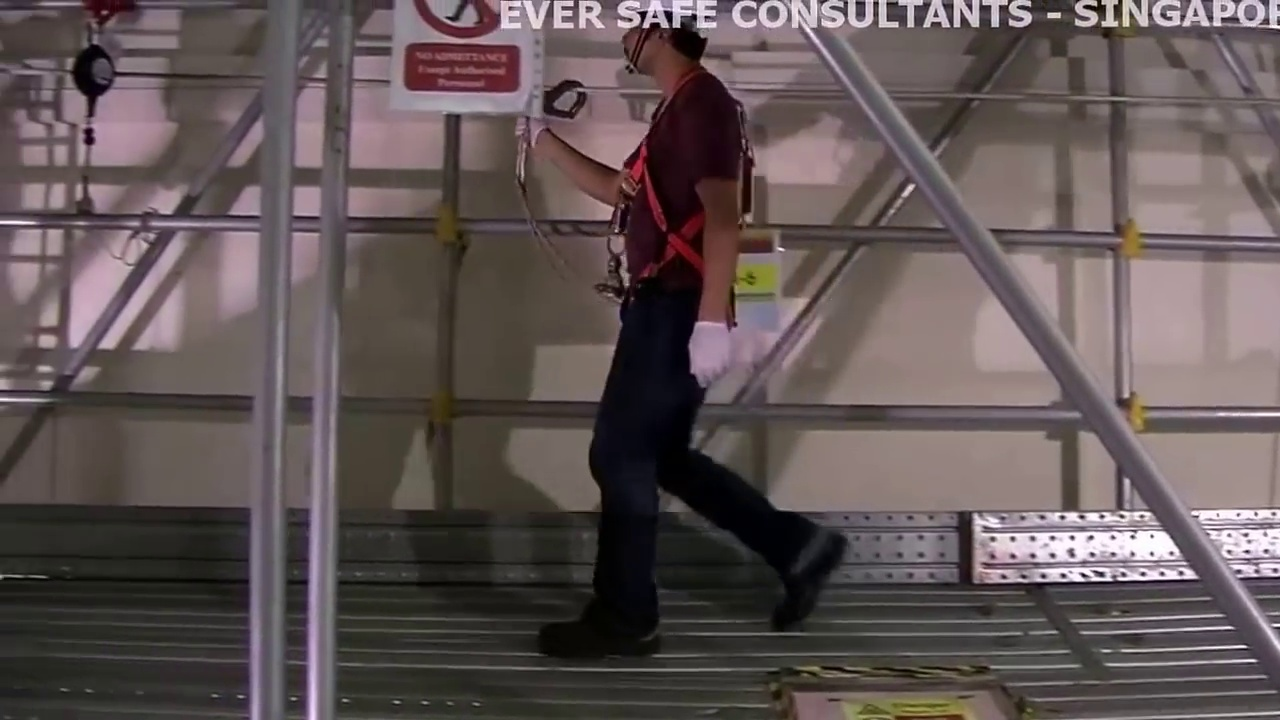harness: (610, 137, 685, 294)
hook: (539, 78, 590, 121)
leash: (505, 184, 588, 292)
